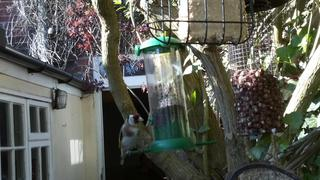goldfinch: (118, 113, 144, 166)
